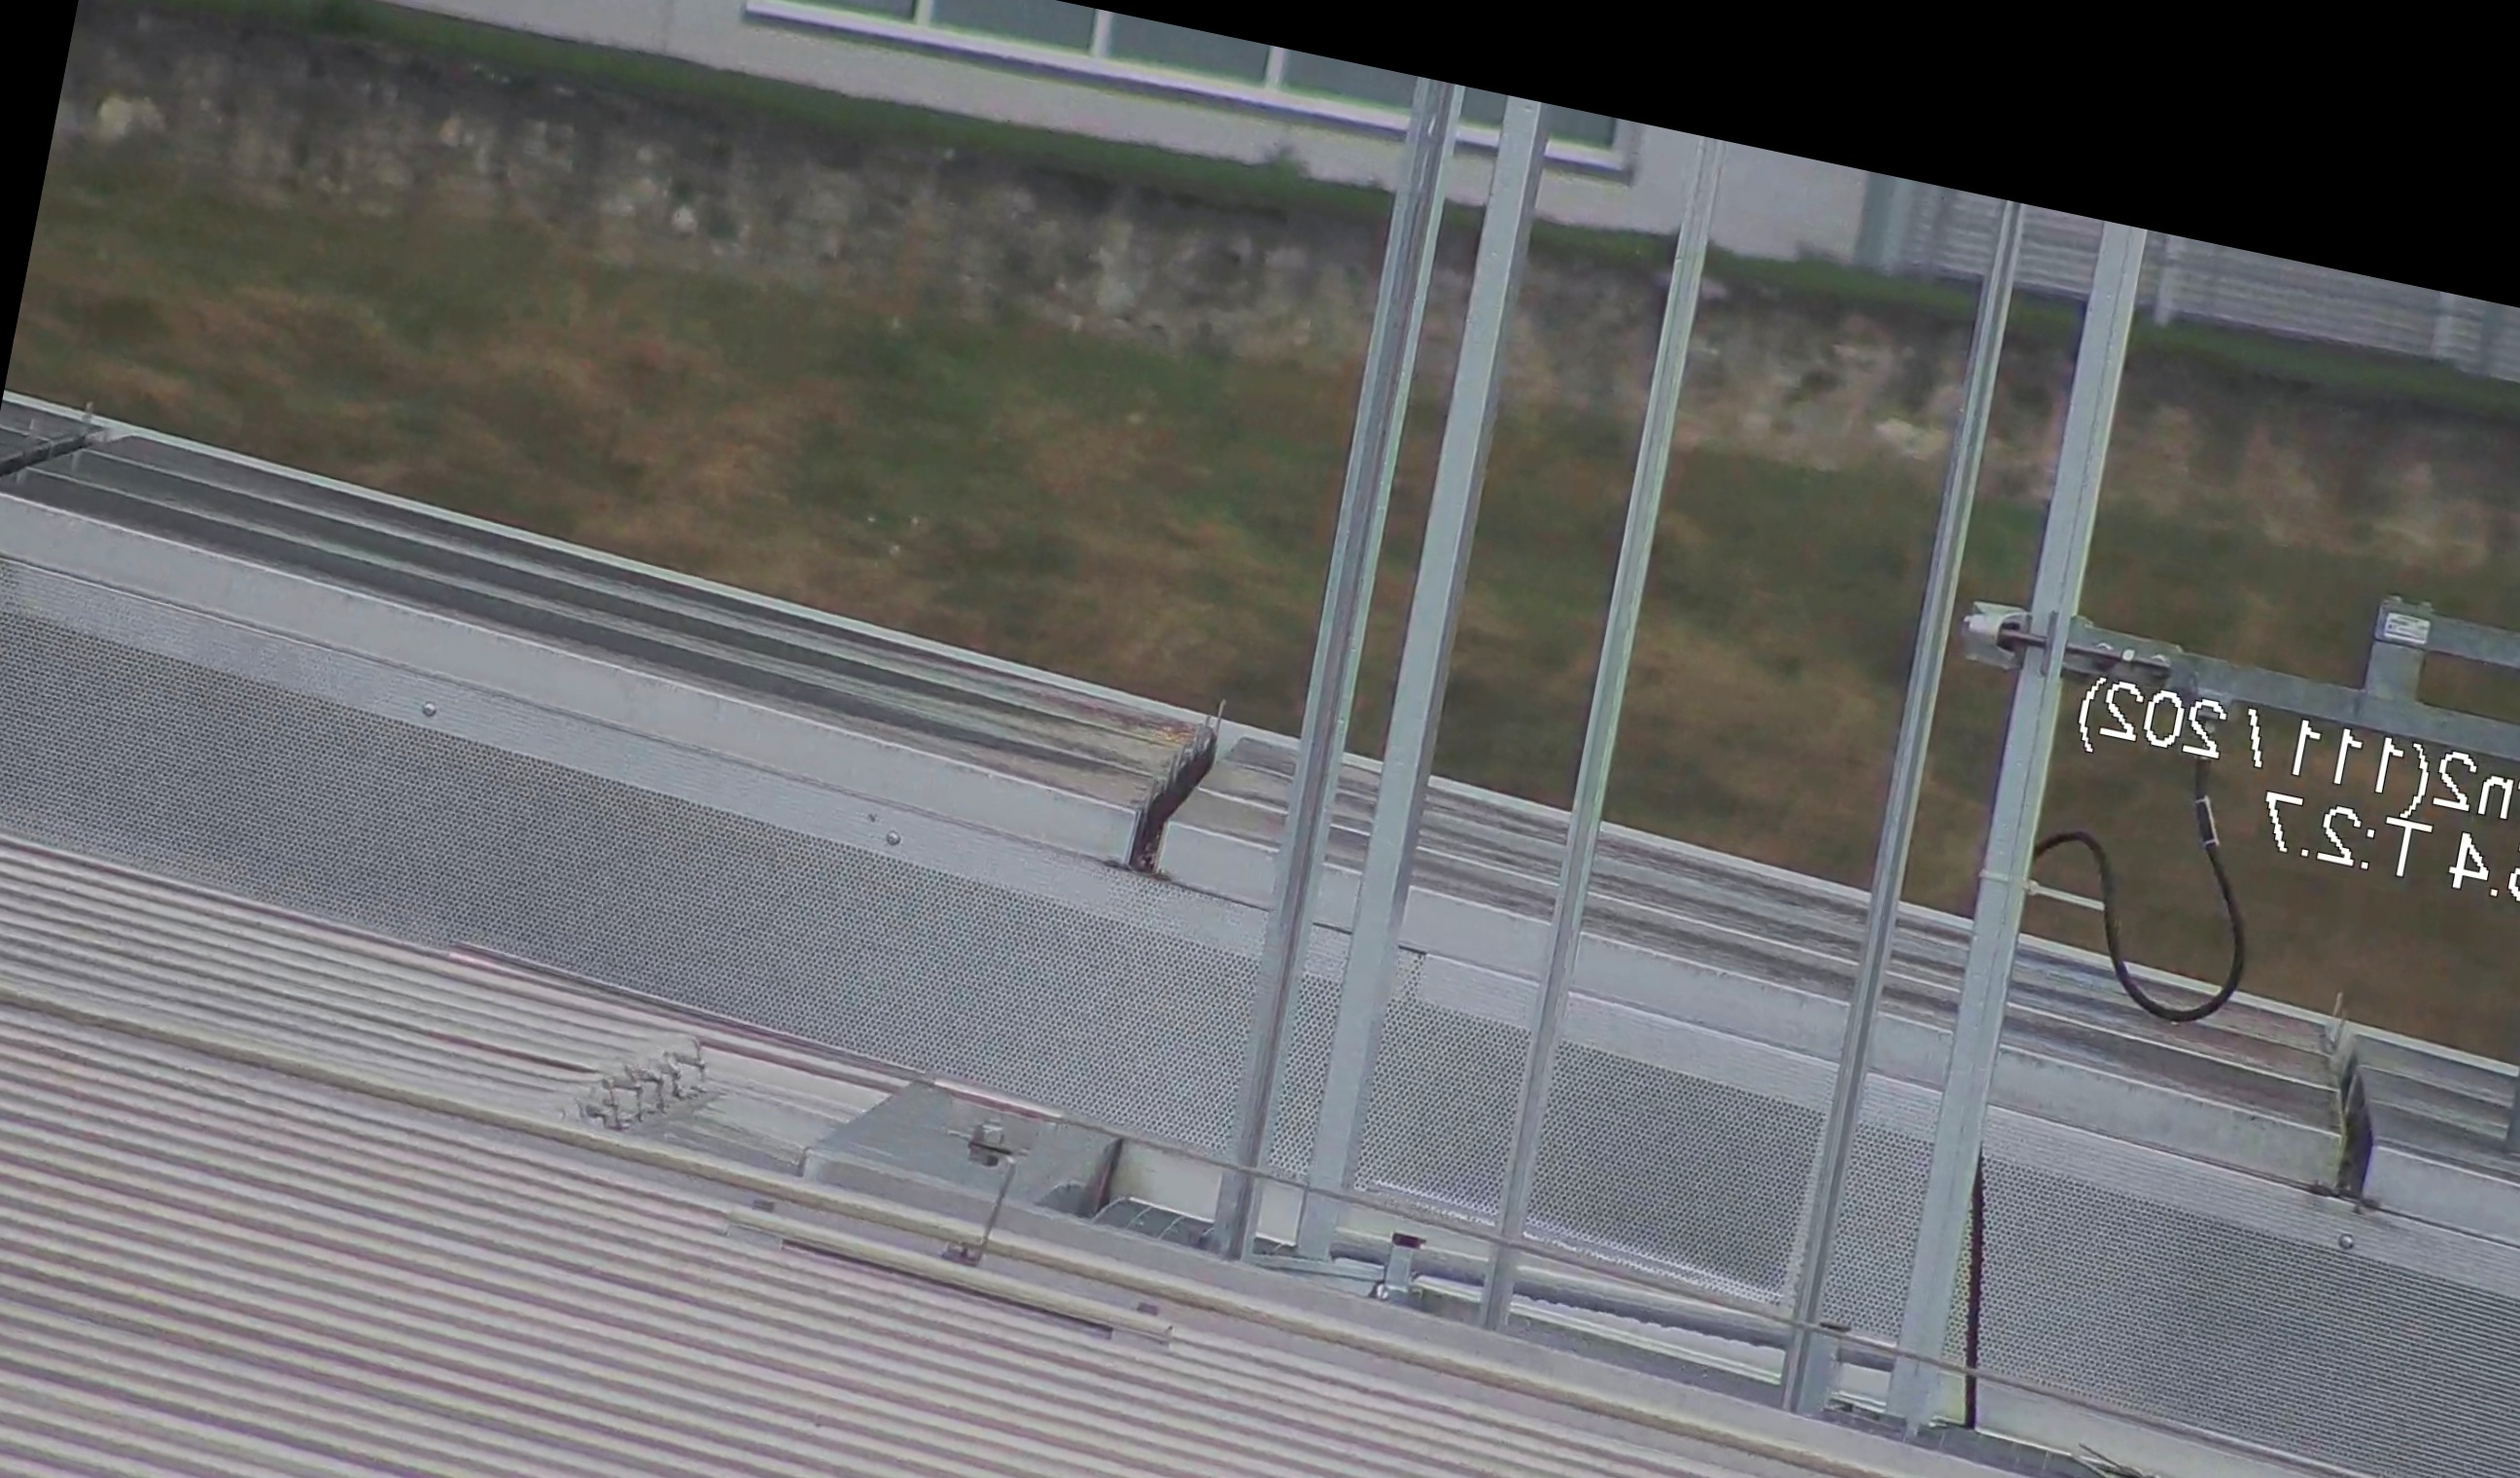Other: (1096, 688, 1249, 901)
